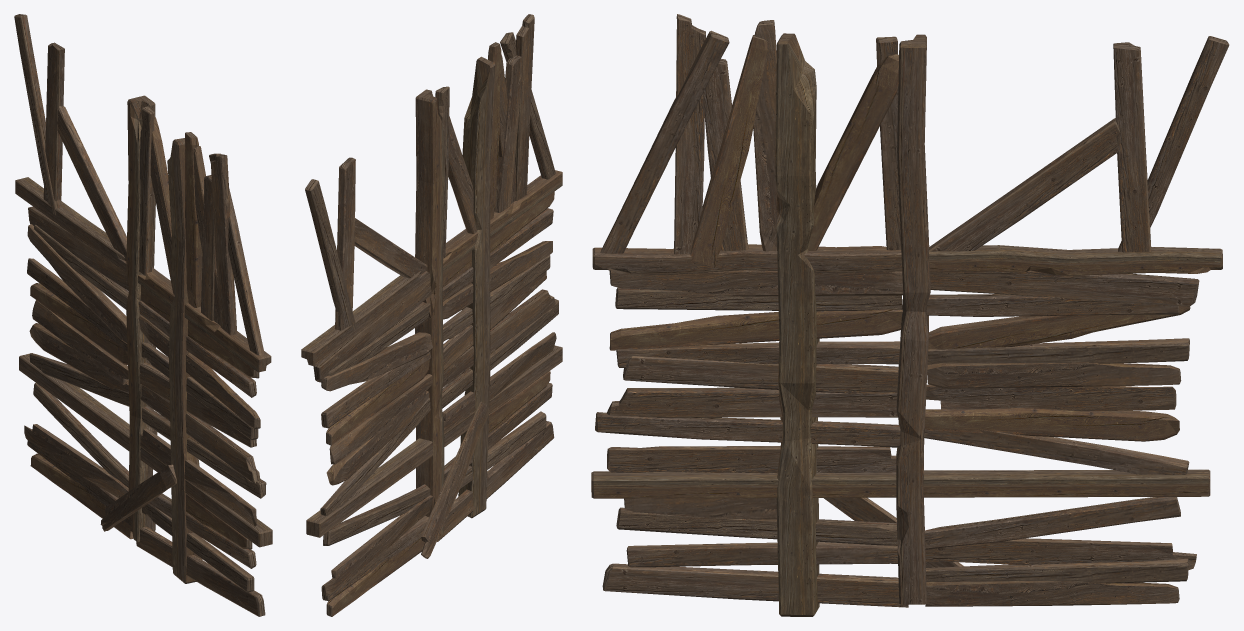
File: SM_Asy_MazeWallAddons4m_01.fbx
3 renders of one model, left to right at view 1: azimuth 30°, elevation 25°; view 2: azimuth 150°, elevation 25°; view 3: azimuth 270°, elevation 25°, orthographic. The views are drawn at different scales.
Visible parts, largest first — view 1: SM_Asy_MazeWallAddons4m_01.mo; view 2: SM_Asy_MazeWallAddons4m_01.mo; view 3: SM_Asy_MazeWallAddons4m_01.mo.
Part boxes in pixels (x1,y1,x2,y2): SM_Asy_MazeWallAddons4m_01.mo: (14, 14, 272, 616); SM_Asy_MazeWallAddons4m_01.mo: (301, 14, 562, 616); SM_Asy_MazeWallAddons4m_01.mo: (591, 14, 1229, 616).
Bounding box in the file's own units: 33.73 × 490 × 479.
